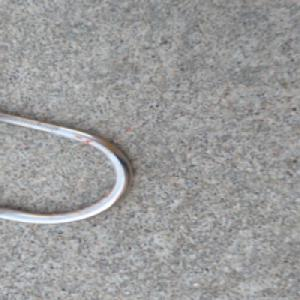ClampPart: (0, 110, 138, 225)
